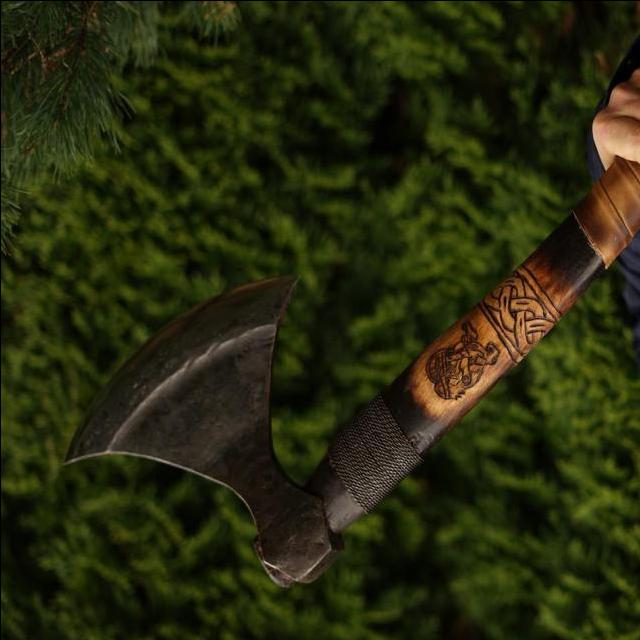axe: (59, 146, 640, 591)
